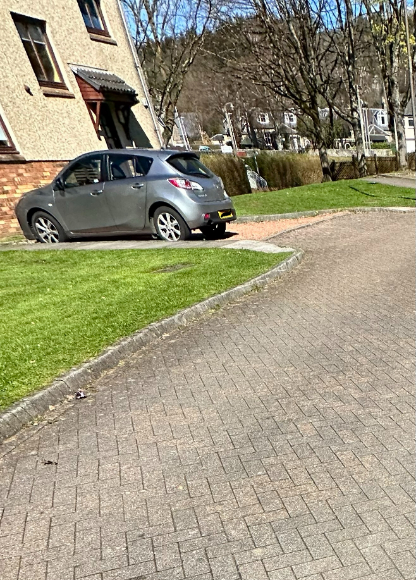car: (0, 135, 247, 255)
